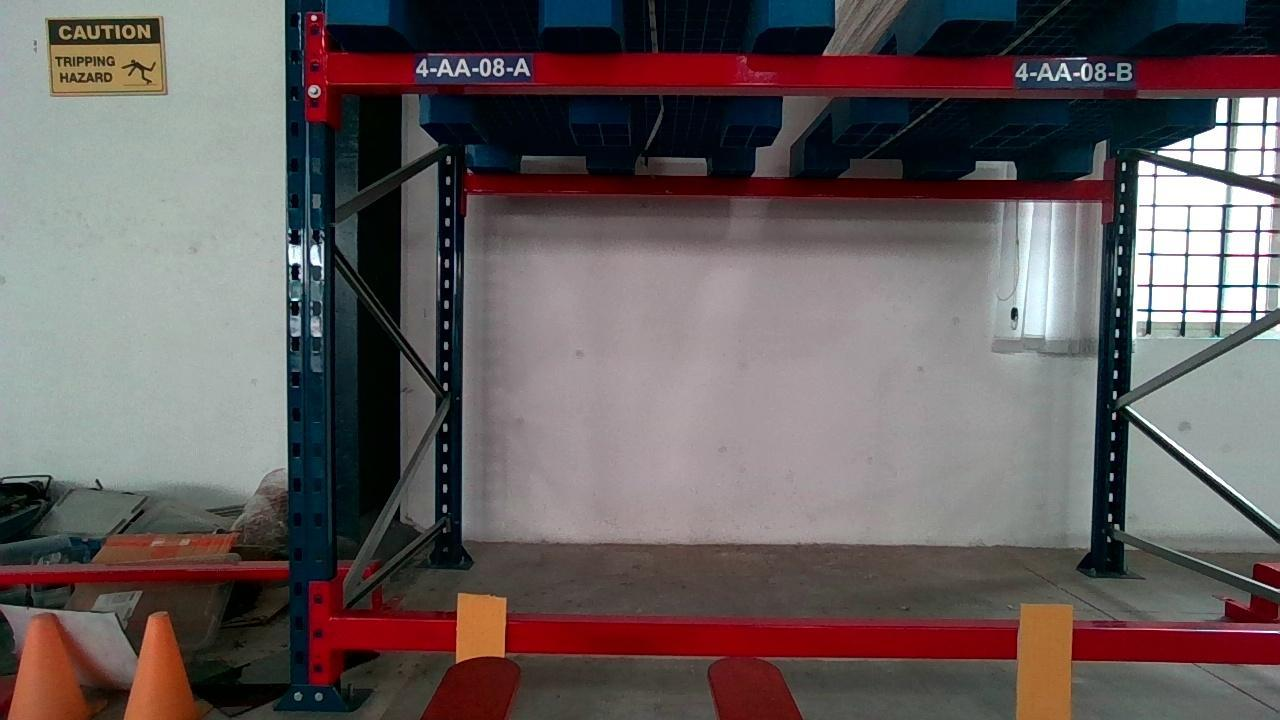h_rack: (330, 615, 1280, 667), (319, 54, 1280, 90)
orange_strip: (1015, 605, 1076, 720), (457, 590, 509, 661)
